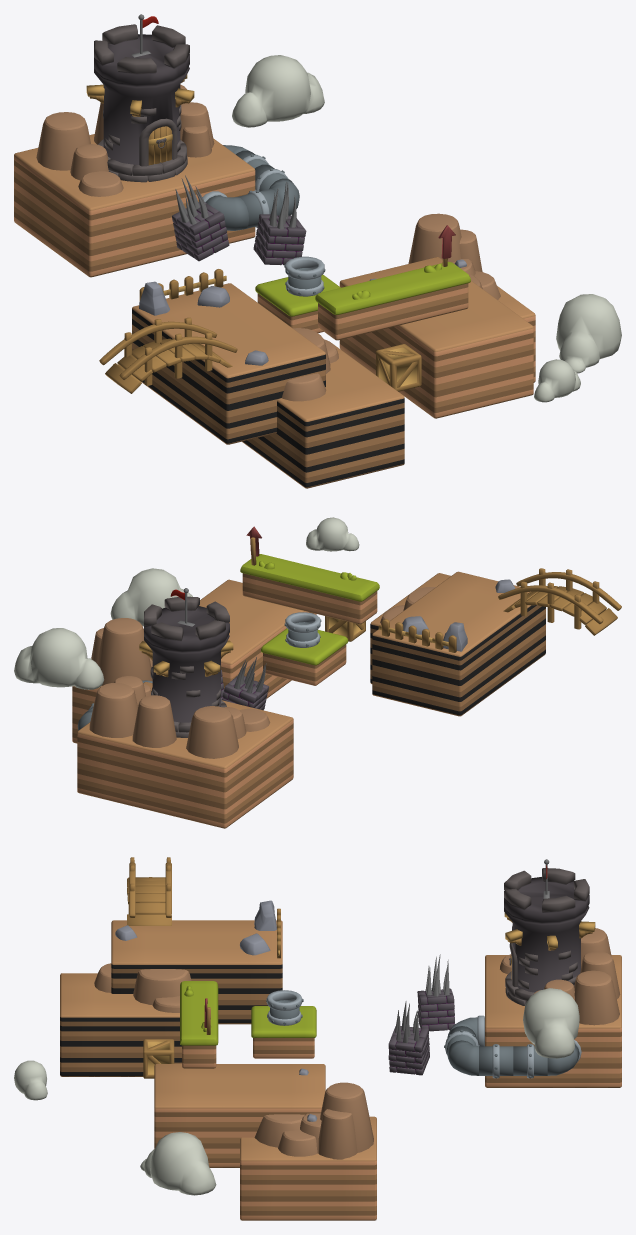
File: Mapa_derecho.glb
3 renders of one model, top to bottom at view 1: azimuth 30°, elevation 25°; view 2: azimuth 150°, elevation 25°; view 3: azimuth 270°, elevation 25°, orthographic. The views are drawn at different scales.
Parts seen in each view (by area): view 1: Cube_Dirt_Side_Tall.014, Cube_Grass_CornerBottom_Tall.021, Cube_Grass_SideBottom_Tall.044, Tower, Cube_Grass_1x1End, Bridge_Small, Cloud_2, RockPlatforms_1.001, Cloud_3.001, RockPlatforms_1.003, Cube_Bricks.001, Cube_Bricks.005 (+11 smaller); view 2: Cube_Dirt_Side_Tall.014, Cube_Grass_CornerBottom_Tall.021, Tower, Cube_Grass_1x1End, Cube_Grass_SideBottom_Tall.044, Bridge_Small, Cloud_2, Cube_Grass_Side_Tall.003, RockPlatforms_1.001, RockPlatforms_1.003, Cloud_3.001, RockPlatform_Tall.002 (+9 smaller); view 3: Cube_Grass_SideBottom_Tall.044, Cube_Dirt_Side_Tall.014, Tower, Cube_Grass_CornerBottom_Tall.021, RockPlatforms_1.003, Cloud_3.001, Cloud_2, Cube_Grass_1x1End, Cube_Grass_Side_Tall.003, Bridge_Small, RockPlatforms_2.001, Cube_Bricks.005 (+12 smaller).
Part boxes in pixels (bbox=[...]): Cube_Dirt_Side_Tall.014: bbox=[132, 283, 404, 488]; Cube_Grass_CornerBottom_Tall.021: bbox=[14, 134, 255, 277]; Cube_Grass_SideBottom_Tall.044: bbox=[339, 257, 535, 418]; Tower: bbox=[86, 14, 194, 182]; Cube_Grass_1x1End: bbox=[315, 261, 470, 340]; Bridge_Small: bbox=[99, 317, 237, 393]; Cloud_2: bbox=[232, 55, 324, 127]; RockPlatforms_1.001: bbox=[36, 112, 123, 196]; Cloud_3.001: bbox=[556, 294, 621, 373]; RockPlatforms_1.003: bbox=[408, 213, 500, 299]; Cube_Bricks.001: bbox=[172, 175, 229, 261]; Cube_Bricks.005: bbox=[253, 182, 306, 265]; Cube_Dirt_Side_Tall.014: bbox=[370, 571, 545, 716]; Cube_Grass_CornerBottom_Tall.021: bbox=[77, 682, 293, 828]; Tower: bbox=[139, 588, 233, 737]; Cube_Grass_1x1End: bbox=[240, 554, 379, 624]; Cube_Grass_SideBottom_Tall.044: bbox=[72, 579, 316, 743]; Bridge_Small: bbox=[498, 568, 621, 635]; Cloud_2: bbox=[14, 628, 104, 689]; Cube_Grass_Side_Tall.003: bbox=[261, 628, 348, 685]; RockPlatforms_1.001: bbox=[186, 706, 270, 758]; RockPlatforms_1.003: bbox=[91, 618, 152, 685]; Cloud_3.001: bbox=[110, 568, 192, 626]; RockPlatform_Tall.002: bbox=[89, 683, 137, 737]; Cube_Grass_SideBottom_Tall.044: bbox=[154, 1064, 376, 1220]; Cube_Dirt_Side_Tall.014: bbox=[60, 920, 282, 1076]; Tower: bbox=[504, 859, 595, 1005]; Cube_Grass_CornerBottom_Tall.021: bbox=[485, 955, 621, 1087]; RockPlatforms_1.003: bbox=[254, 1082, 373, 1159]; Cloud_3.001: bbox=[140, 1132, 216, 1195]; Cloud_2: bbox=[523, 988, 579, 1058]; Cube_Grass_1x1End: bbox=[180, 981, 218, 1068]; Cube_Grass_Side_Tall.003: bbox=[251, 1006, 316, 1058]; Bridge_Small: bbox=[127, 857, 171, 925]; RockPlatforms_2.001: bbox=[94, 963, 191, 1012]; Cube_Bricks.005: bbox=[388, 1001, 429, 1075].
Size of the model in its own units: 31.97 by 17.05 by 35.49.
